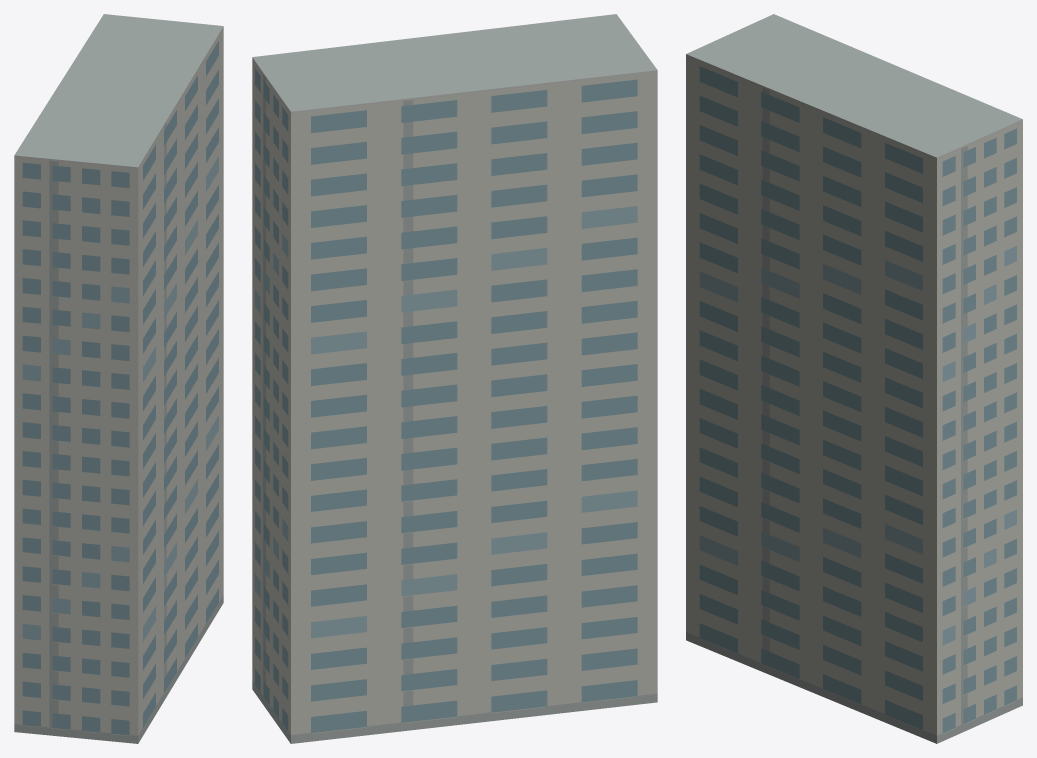
Rendered from residential-a6222b6b-5fc6-4c30-9fc1-c65764431d70.glb.
The picture shows the model from 3 angles, left to right: view 1: azimuth 30°, elevation 25°; view 2: azimuth 150°, elevation 25°; view 3: azimuth 270°, elevation 25°; orthographic projection. The views are drawn at different scales.
Visible parts, largest first — view 1: residential-a6222b6b-5fc6-4c30-9fc1-c65764431d70.tmp; view 2: residential-a6222b6b-5fc6-4c30-9fc1-c65764431d70.tmp; view 3: residential-a6222b6b-5fc6-4c30-9fc1-c65764431d70.tmp.
Boxes of the visible parts, x1,y1,x2,y2 form: residential-a6222b6b-5fc6-4c30-9fc1-c65764431d70.tmp: (14,14,223,743); residential-a6222b6b-5fc6-4c30-9fc1-c65764431d70.tmp: (252,14,657,743); residential-a6222b6b-5fc6-4c30-9fc1-c65764431d70.tmp: (686,14,1022,743).
Bounding box in the file's own units: 41.54 × 79 × 41.15.
